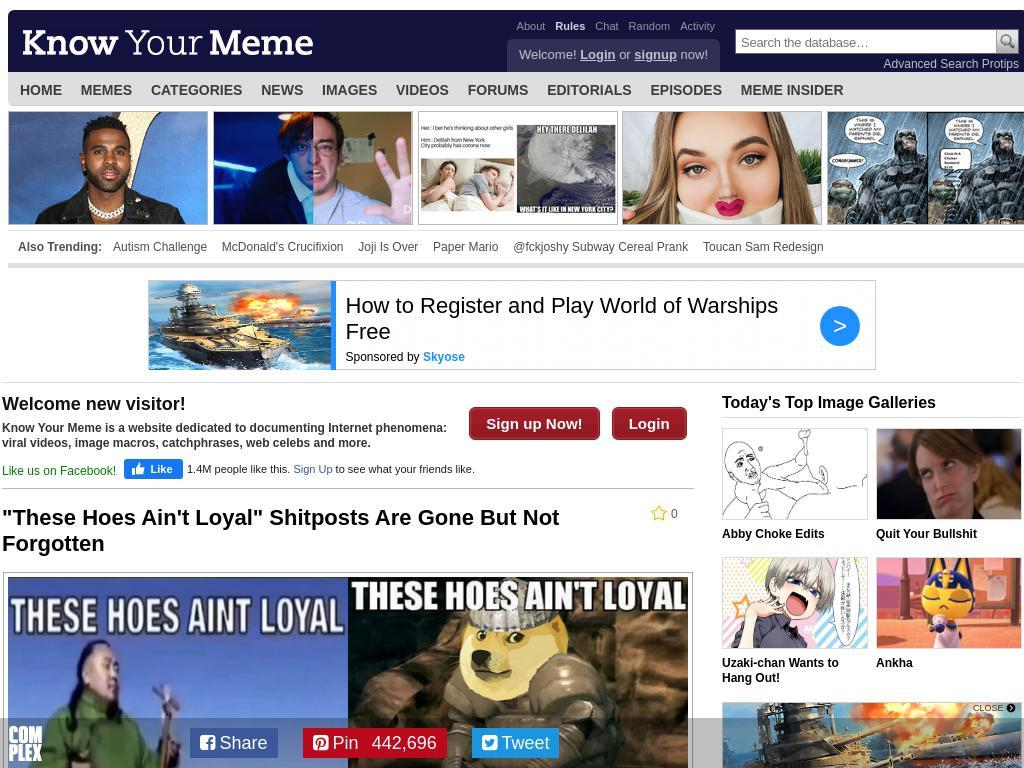button: (212, 111, 413, 225), (417, 111, 618, 225), (622, 111, 823, 225), (8, 111, 208, 225), (827, 111, 1024, 225), (469, 407, 601, 440), (302, 728, 447, 758), (189, 728, 278, 758), (471, 728, 560, 758), (611, 407, 687, 440), (0, 718, 50, 768), (651, 505, 678, 521)
field: (735, 29, 996, 54)
heading: (2, 505, 559, 556), (2, 395, 694, 413), (722, 395, 1022, 411), (722, 656, 839, 685), (18, 235, 102, 259), (722, 527, 825, 541), (876, 527, 977, 541), (876, 656, 913, 670)
iframe: (0, 0, 1024, 768), (148, 280, 876, 370), (722, 702, 1022, 768), (124, 459, 600, 487)
image: (6, 576, 687, 768), (213, 112, 412, 224), (418, 112, 617, 224), (623, 112, 822, 224), (9, 112, 207, 224), (828, 112, 1024, 224), (722, 428, 866, 518), (876, 428, 1020, 518), (722, 557, 866, 647), (876, 557, 1020, 647), (18, 28, 318, 56), (7, 725, 43, 761), (996, 29, 1017, 52), (1006, 698, 1016, 718)
link: (513, 240, 689, 254), (883, 57, 1019, 71), (221, 240, 344, 254), (702, 240, 824, 254), (740, 82, 844, 98), (150, 82, 243, 98), (547, 82, 633, 98), (113, 240, 207, 254), (650, 82, 723, 98), (467, 82, 529, 98), (433, 240, 499, 254), (322, 82, 377, 98), (396, 82, 450, 98), (358, 240, 419, 254), (80, 82, 132, 98), (261, 82, 304, 98), (20, 82, 62, 98), (634, 47, 678, 62), (580, 47, 617, 62), (628, 21, 671, 32), (680, 21, 715, 32), (555, 20, 586, 32), (516, 21, 546, 32), (595, 21, 619, 32)
text: (2, 421, 447, 450), (2, 459, 117, 477), (363, 733, 437, 753), (214, 733, 268, 753), (496, 733, 549, 753), (518, 47, 580, 62), (327, 733, 364, 753), (676, 47, 708, 62), (972, 703, 1004, 713), (615, 47, 634, 62), (671, 505, 678, 519)
